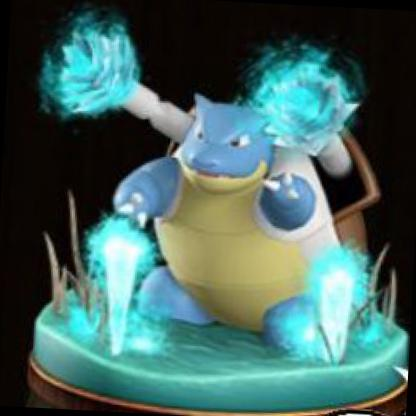Blastoise: (1, 1, 416, 416), (12, 5, 416, 408)
